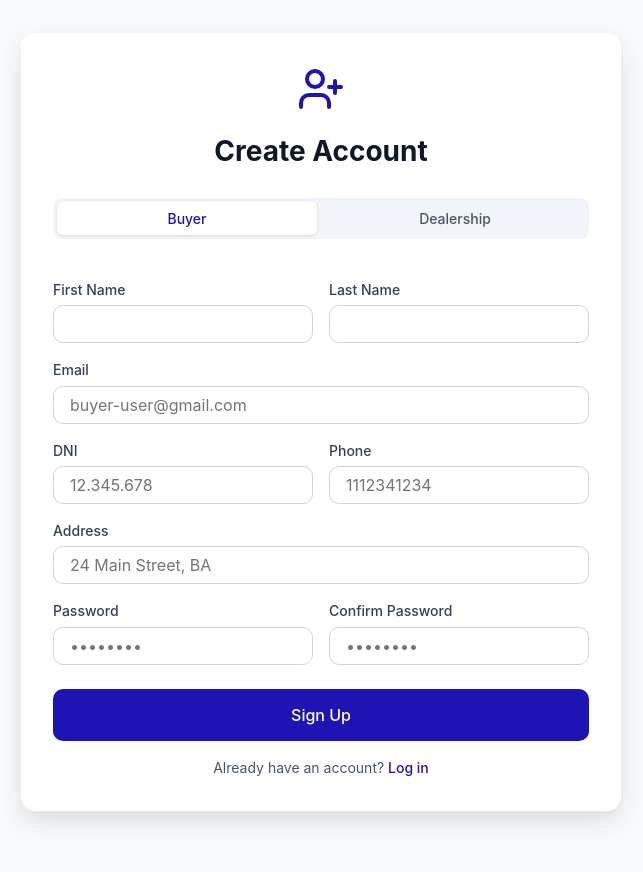
Test: RegisterPage › User Type Toggle › should switch to dealership mode when clicking dealership button
Click the button "Dealership": (455, 218) [325, 202, 585, 235]
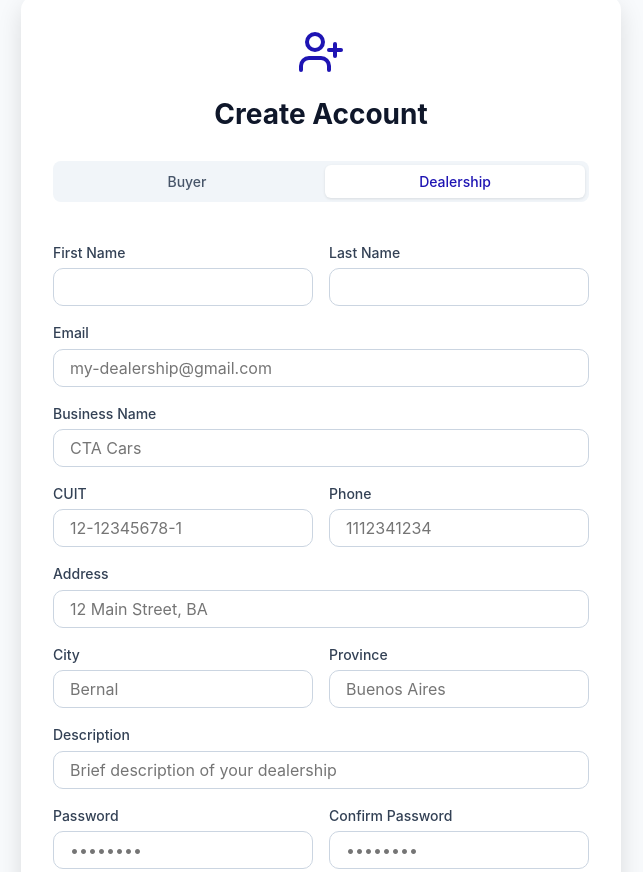
Now the field labelled "Business Name" is shown, box [53, 429, 589, 467]
Now the field labelled "CUIT" is shown, box [53, 509, 313, 547]
Now the field labelled "City" is shown, box [53, 670, 313, 708]
